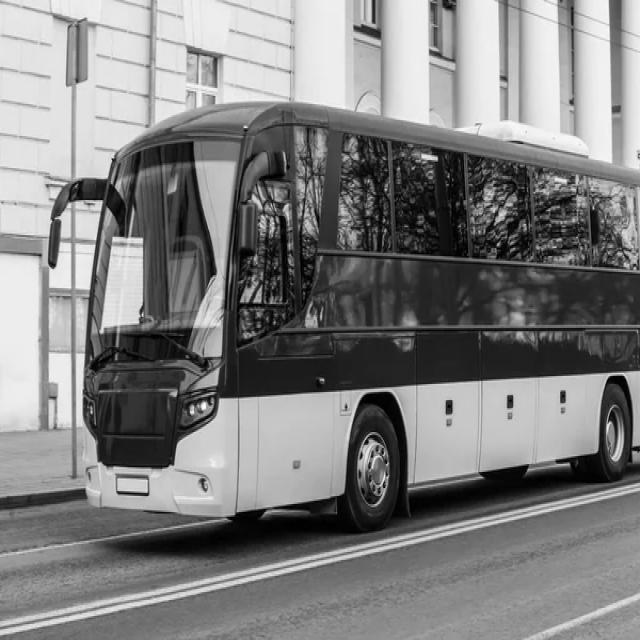Bus: (51, 102, 640, 529)
